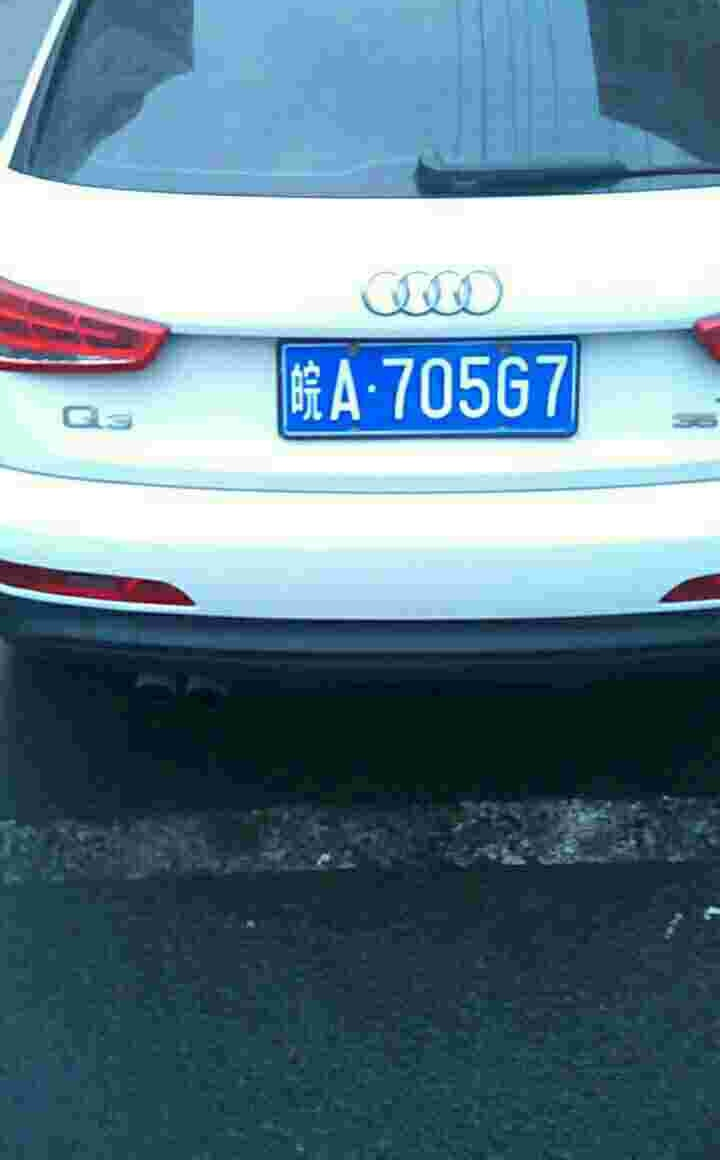license_plate: (267, 343, 584, 447)
